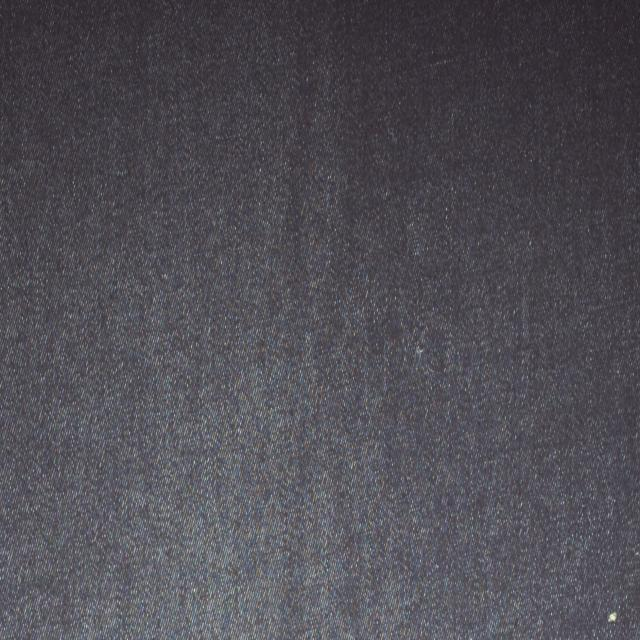Knot: (609, 612, 620, 624)
